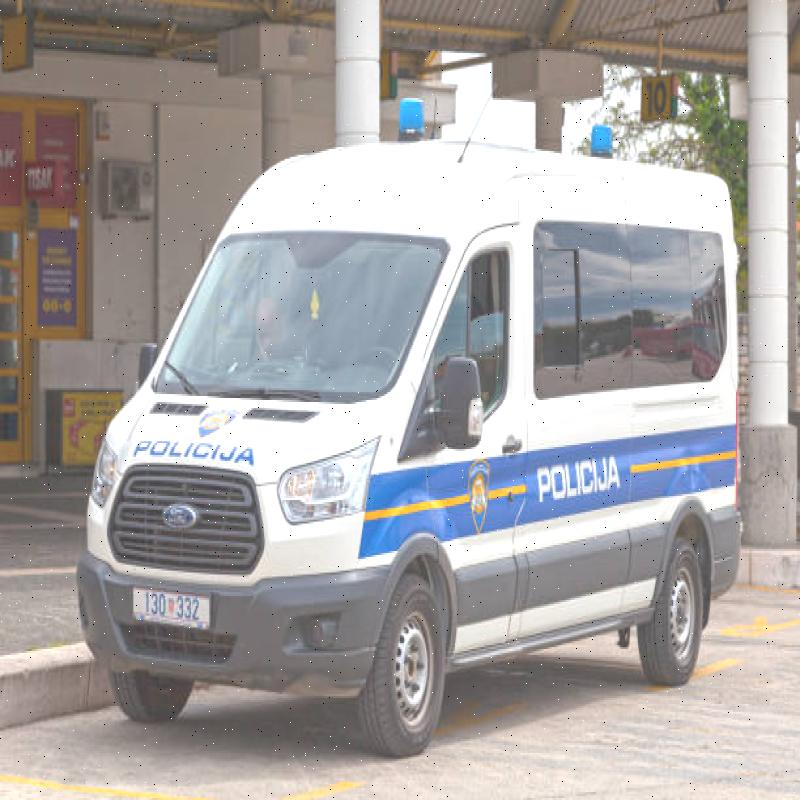AmbulanceSiren: (388, 86, 421, 145)
